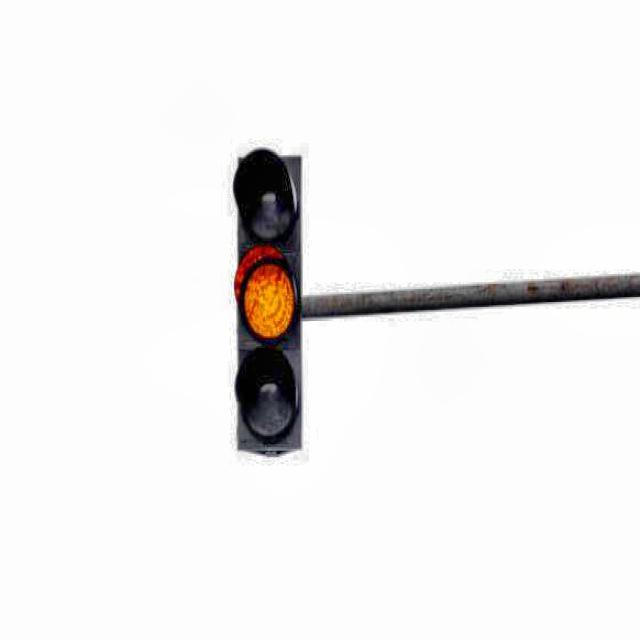yellow: (236, 159, 302, 449)
